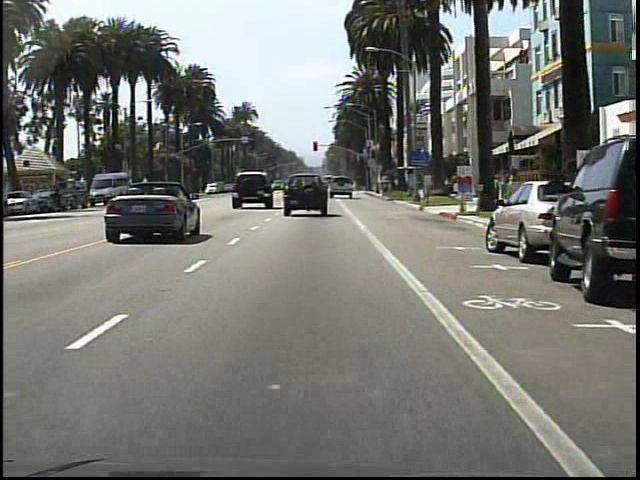person: (51, 178, 67, 215)
